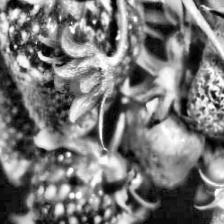Powdery Mildew Fruit: (0, 0, 144, 140), (26, 139, 129, 224), (0, 12, 50, 183), (184, 0, 224, 134)
